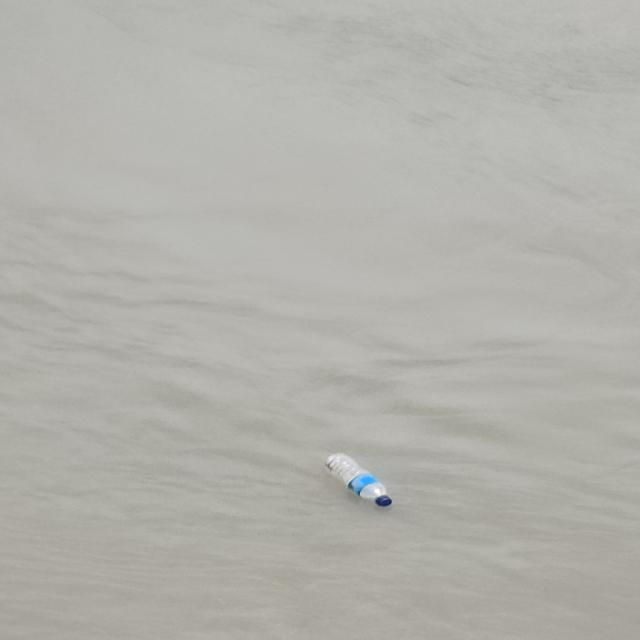Plastic: (311, 435, 408, 520)
